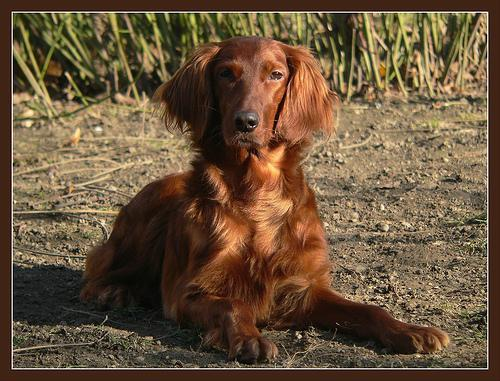Irish_setter: (80, 31, 453, 360)
